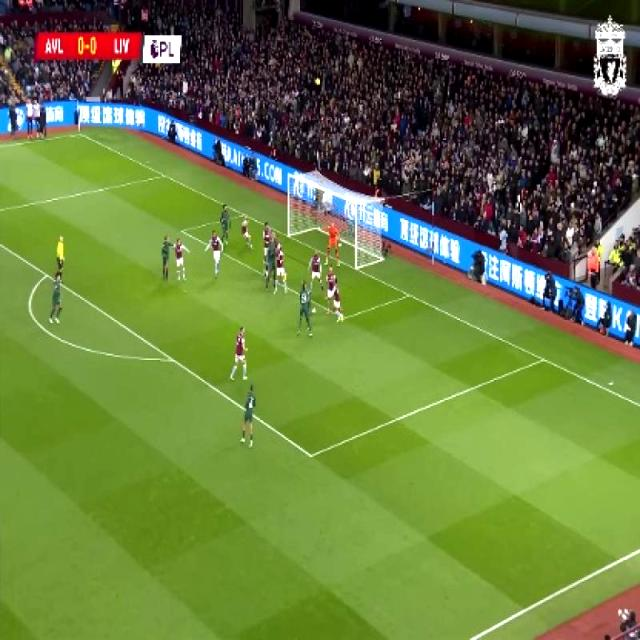bigarea_bottom_inner: (303, 442, 320, 468)
bigarea_bottom_outter: (537, 350, 548, 365)
bigarea_top_outter: (158, 170, 168, 180)
bottom_arc_area_intersection: (166, 350, 179, 368)
corner: (72, 129, 83, 137)
smallarea_bottom_inner: (337, 308, 349, 322)
smallarea_bottom_outter: (401, 286, 414, 304)
smallarea_top_inner: (176, 223, 186, 237)
smallarea_top_outter: (237, 208, 248, 222)
top_arc_area_intersection: (44, 268, 50, 282)
